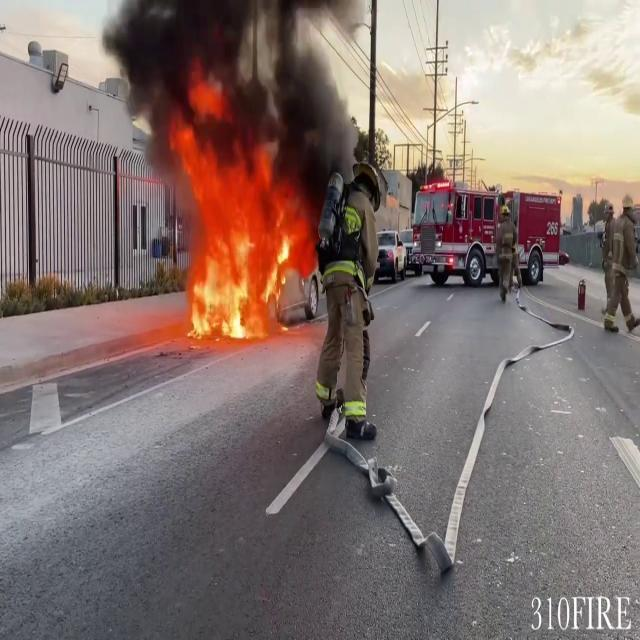Fire: (158, 136, 310, 342)
Smoke: (101, 0, 377, 186)
